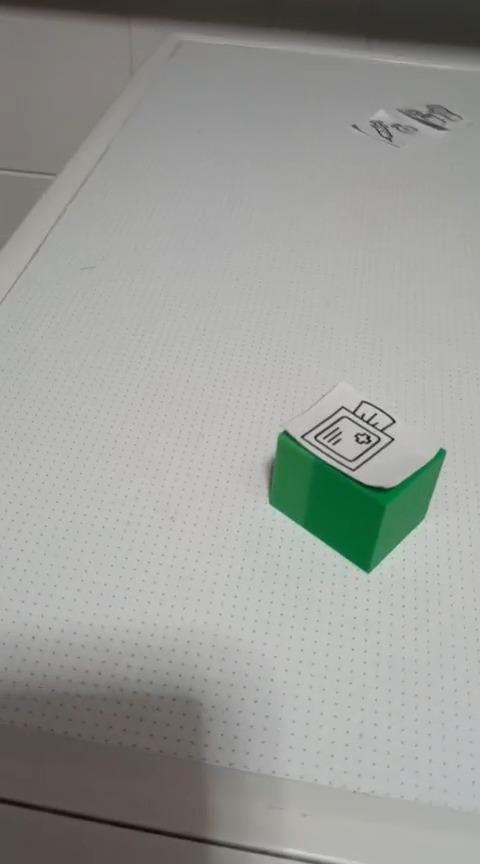Gauze: (266, 379, 446, 574)
